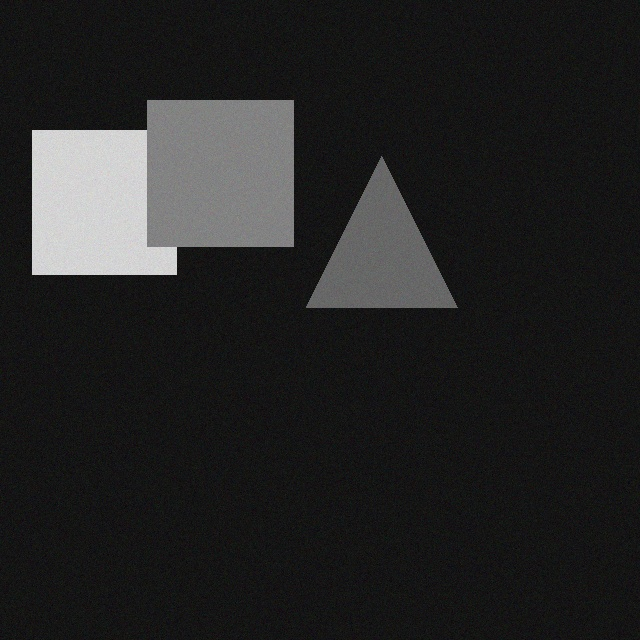square: (158, 115, 304, 261), (43, 145, 187, 289)
triangle: (317, 171, 468, 322)
